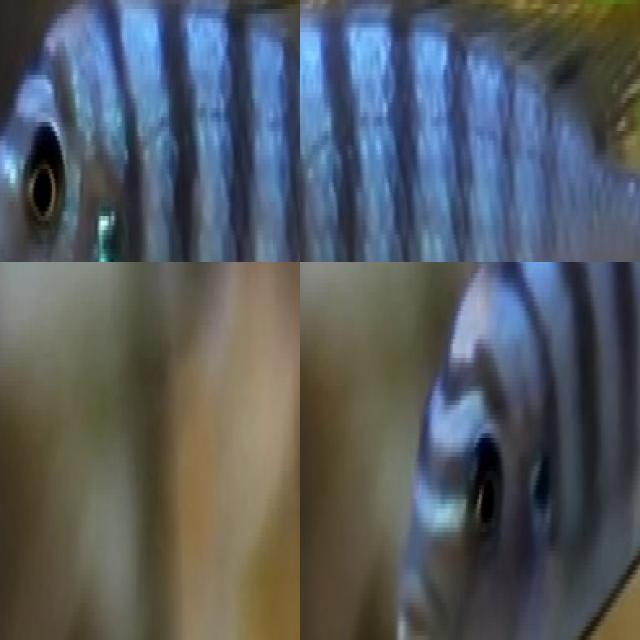fish: (300, 0, 640, 262), (0, 0, 300, 262)
